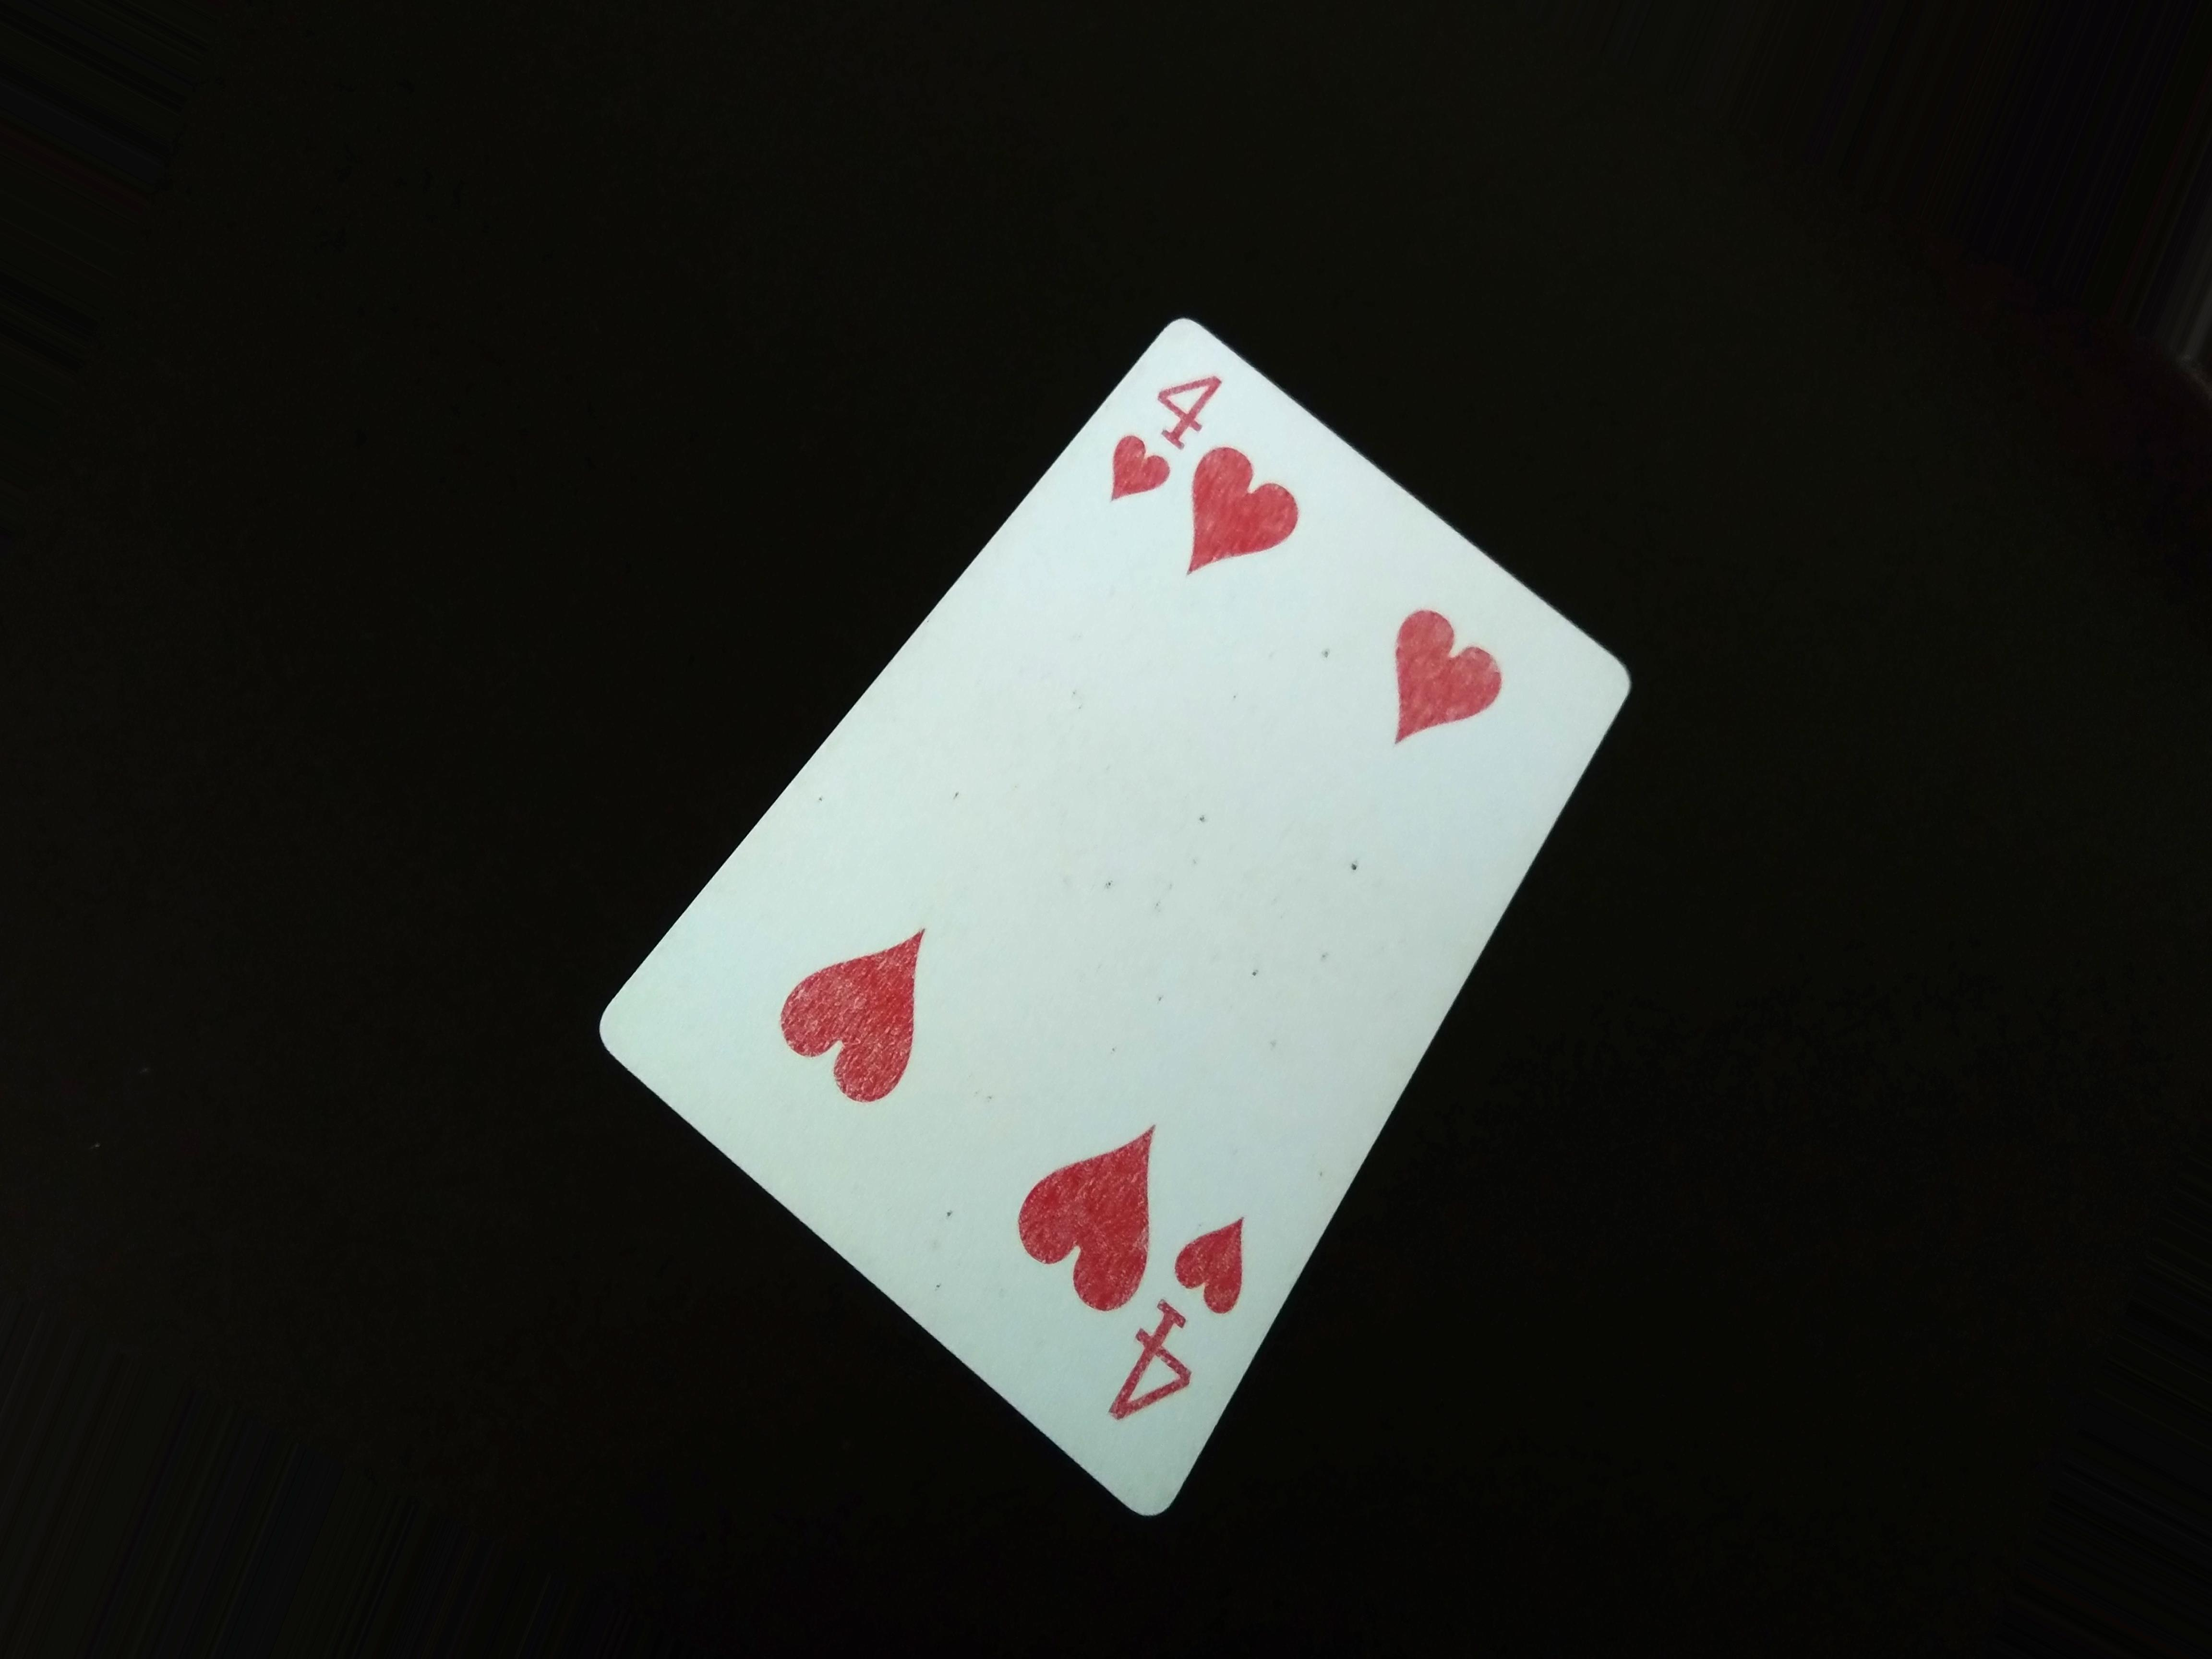4H: (1092, 345, 1233, 530)
